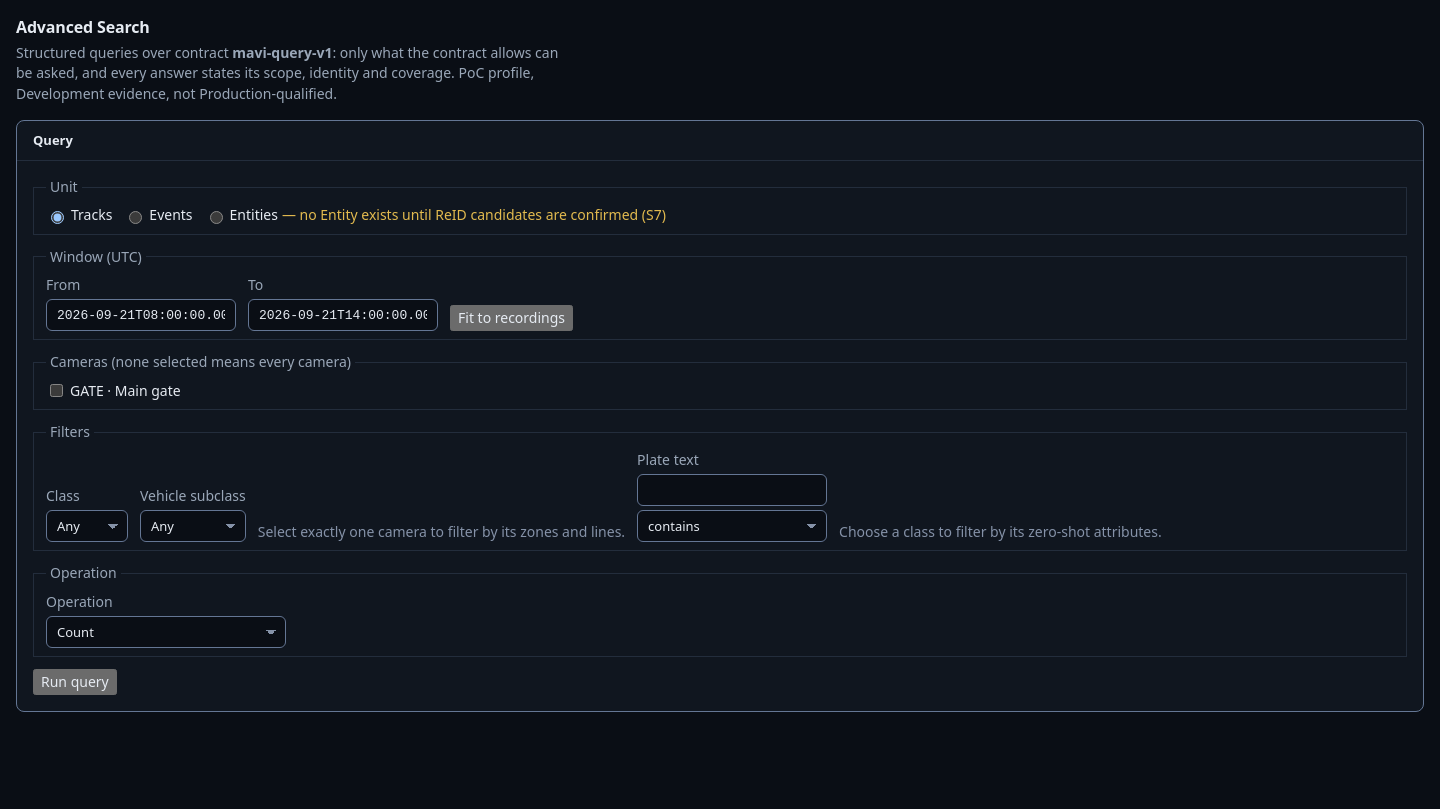
it: Advanced Search › shows the Entity unit as defined but without data, never as zero
The image size is (1440, 809).
Click the radio button labelled "Entities": (216, 217) [210,210,223,224]
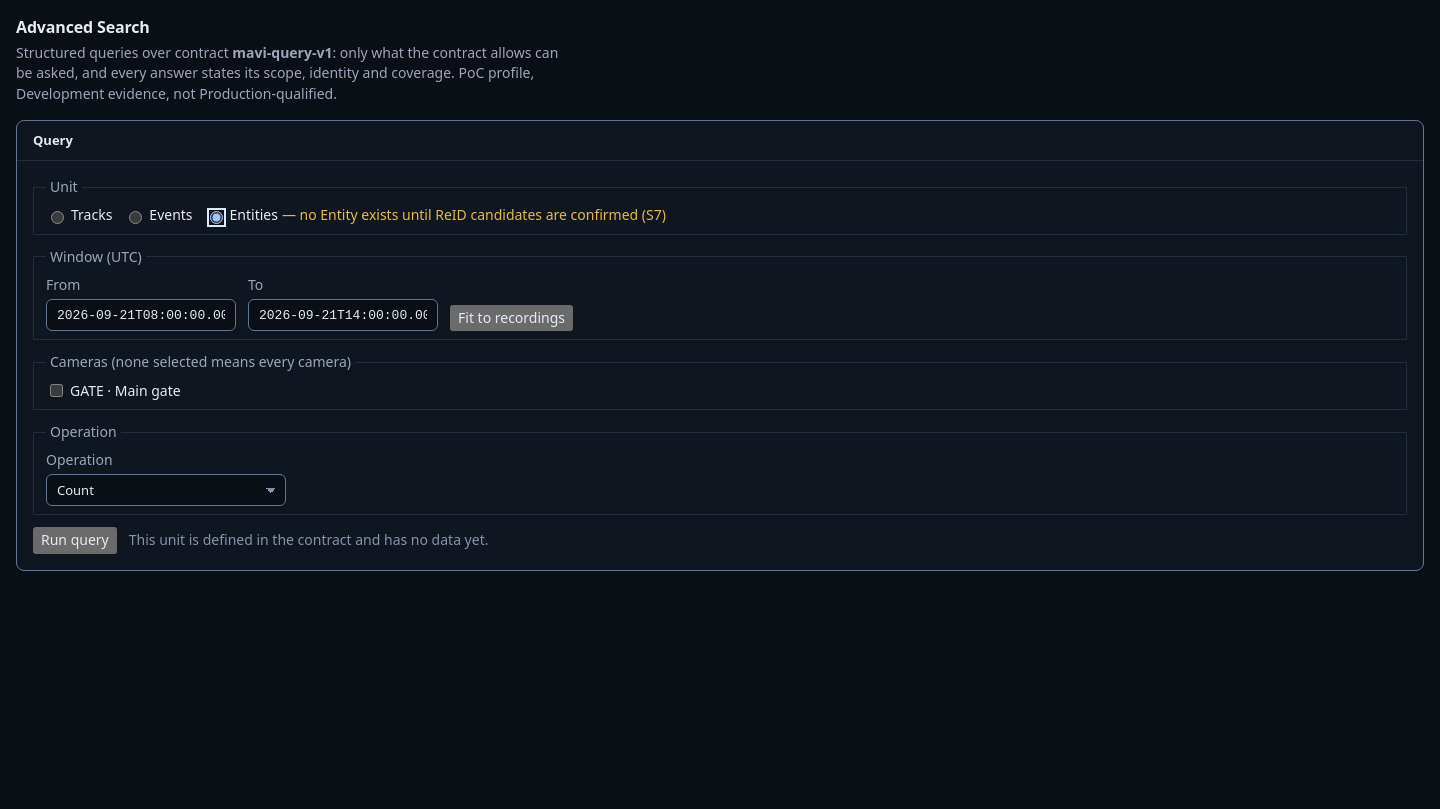
Click the button "Run query": (75, 541) [33,528,117,554]
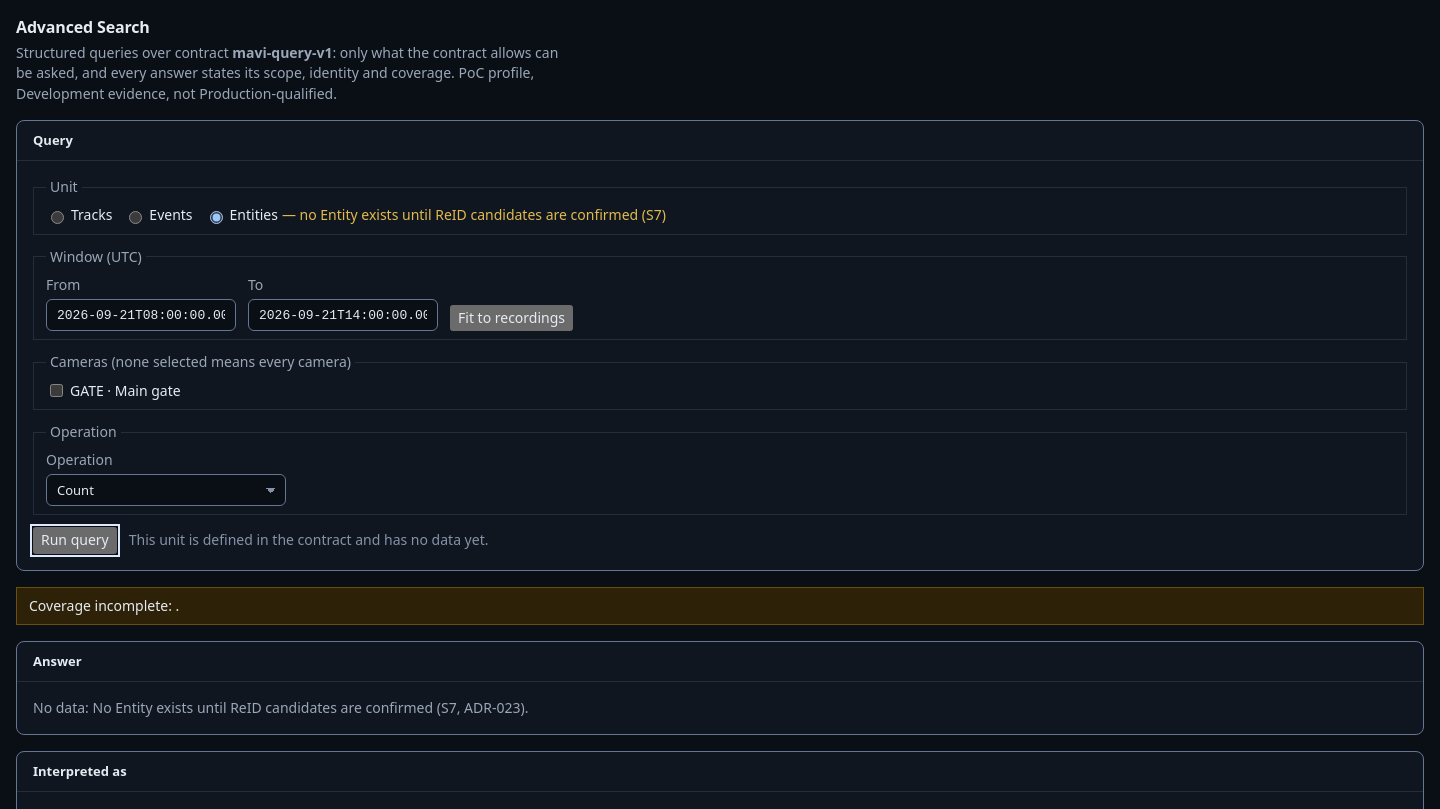
Now the text "No data: No Entity exists" is shown, box [33,698,528,717]
